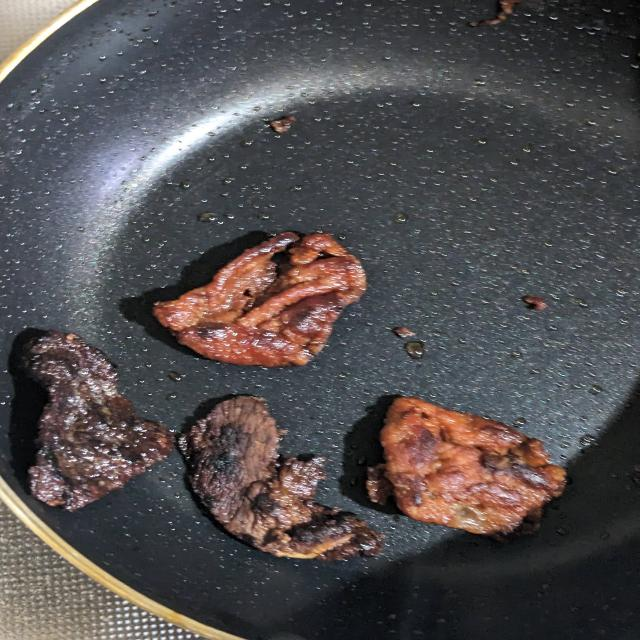overcooked beef,: (171, 385, 391, 567), (17, 327, 181, 521)
overcooked pork: (136, 230, 377, 375), (359, 390, 582, 545)
